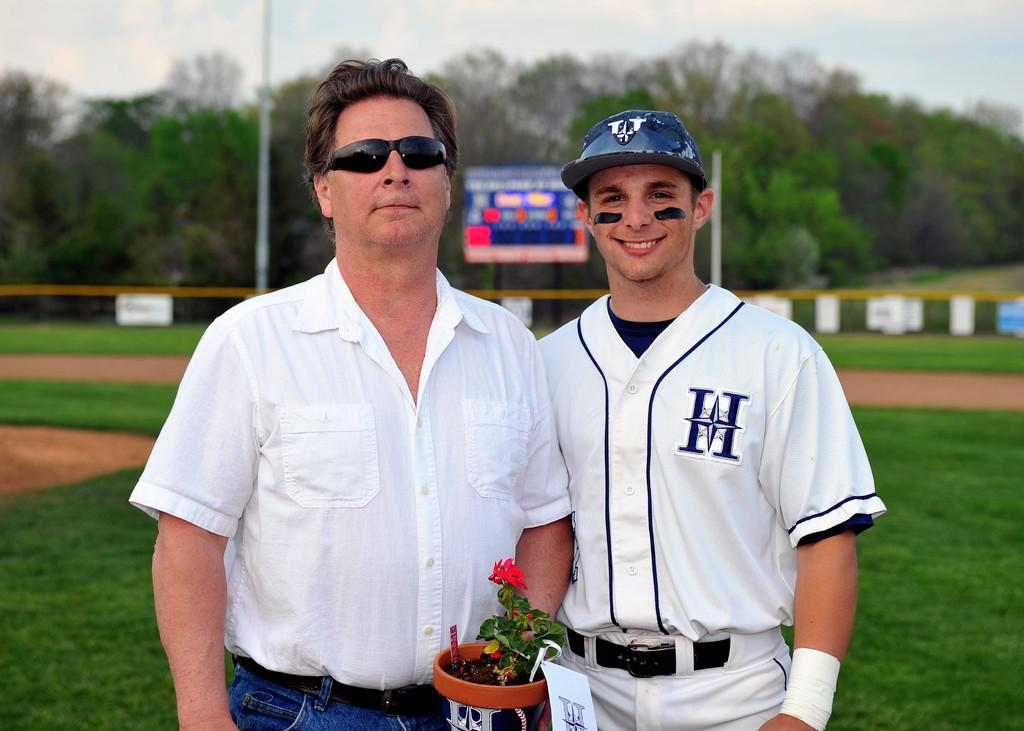Hat: (557, 110, 706, 206)
